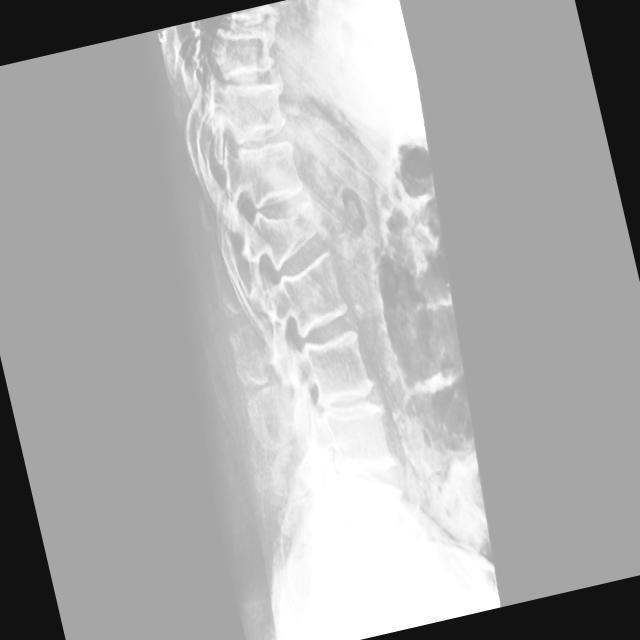Compression-Crush Fracutre: (237, 212, 329, 254)
